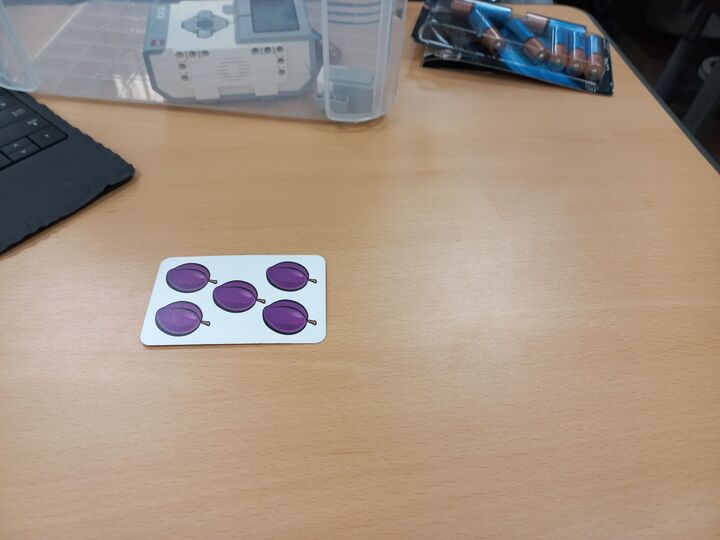plum5: (138, 253, 328, 347)
